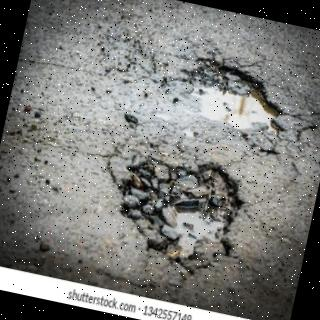pothole: (122, 162, 241, 261), (174, 57, 279, 133)
